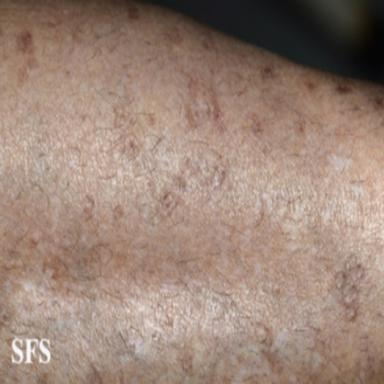Porokeratosis: (336, 255, 365, 321), (17, 30, 37, 70), (95, 244, 113, 264), (83, 195, 95, 220), (255, 322, 268, 344), (260, 64, 275, 80), (181, 353, 193, 371), (113, 204, 123, 220)
